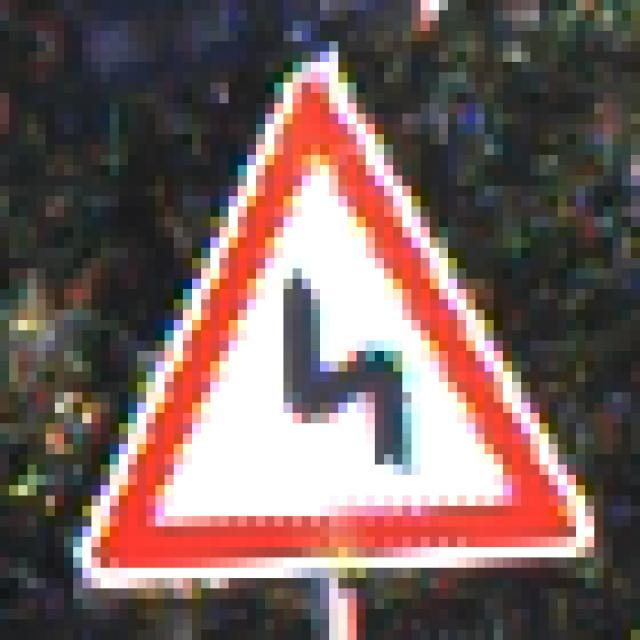left reverse bend: (52, 44, 610, 583)
